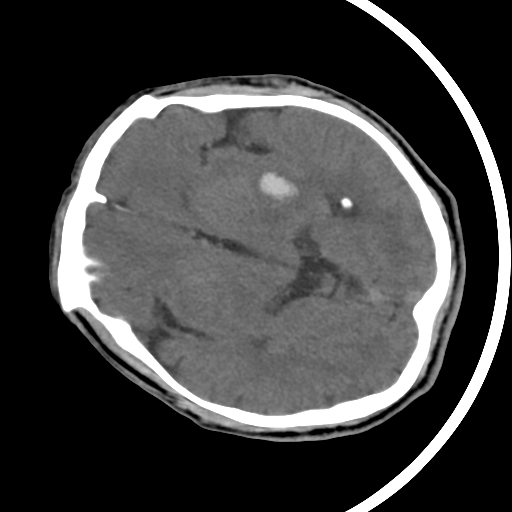a: (234, 150, 319, 222)
